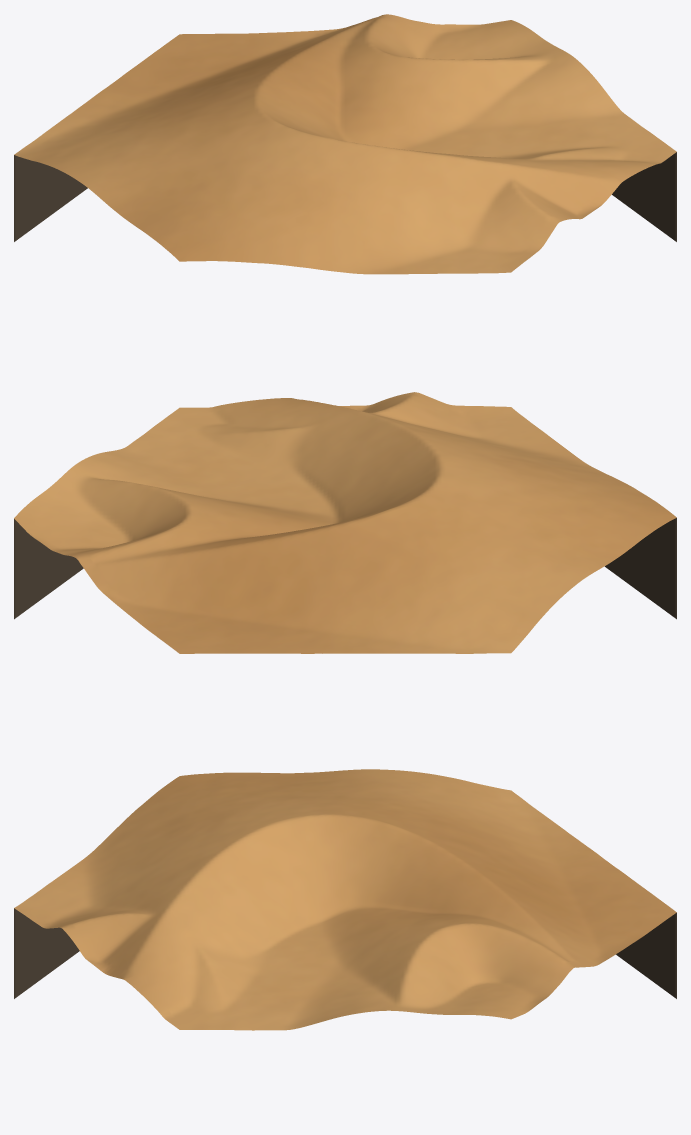
3 views of the same model, one above another, from view 1: azimuth 30°, elevation 25°; view 2: azimuth 150°, elevation 25°; view 3: azimuth 270°, elevation 25° (orthographic).
Visible parts, largest first — view 1: terrain, hex_side_cut; view 2: terrain, hex_side_cut; view 3: terrain, hex_side_cut.
Part boxes in pixels (<box>): terrain: <box>14,14,676,274</box>; hex_side_cut: <box>14,152,676,241</box>; terrain: <box>14,392,676,653</box>; hex_side_cut: <box>14,518,676,619</box>; terrain: <box>14,769,676,1030</box>; hex_side_cut: <box>14,908,676,998</box>.
Size of the model in its own units: 4330 by 1218 by 5000.
